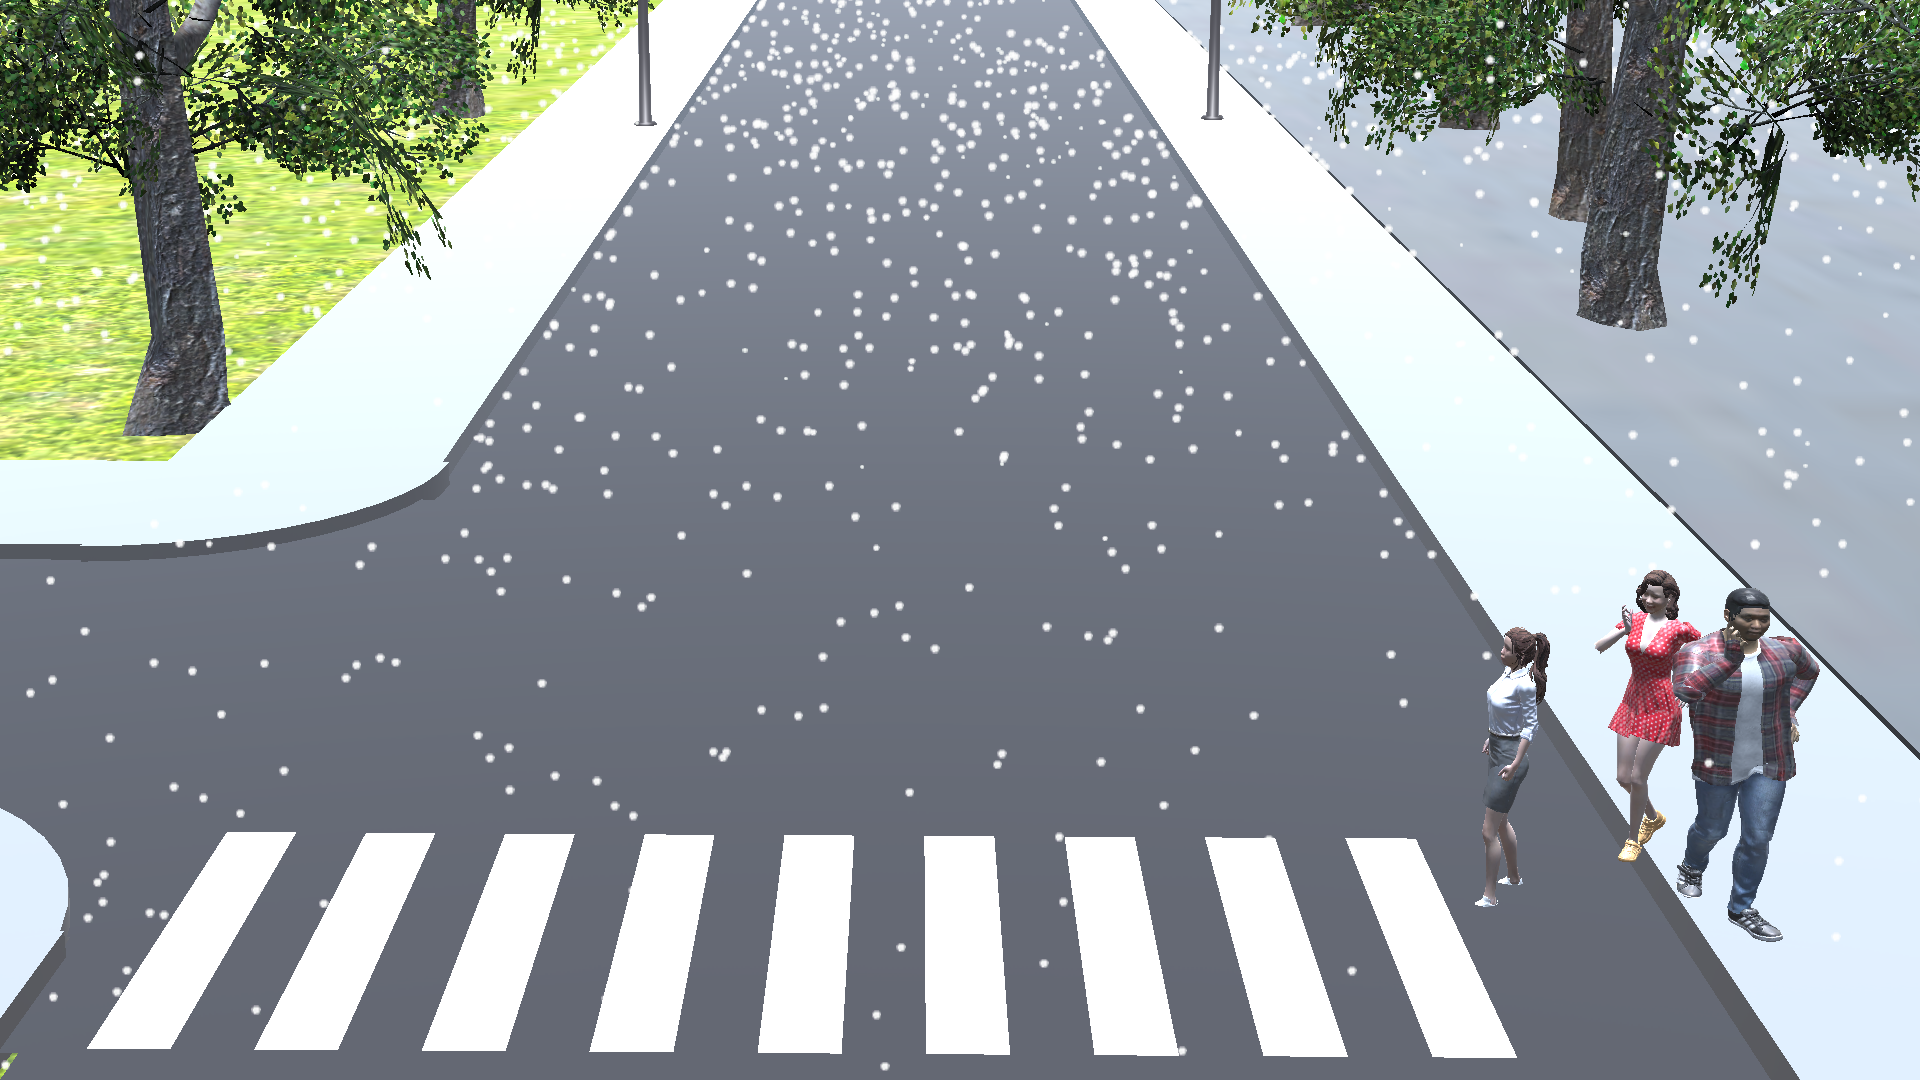pedestrian: (1686, 572, 1819, 953), (1470, 612, 1557, 916), (1598, 546, 1679, 872)
